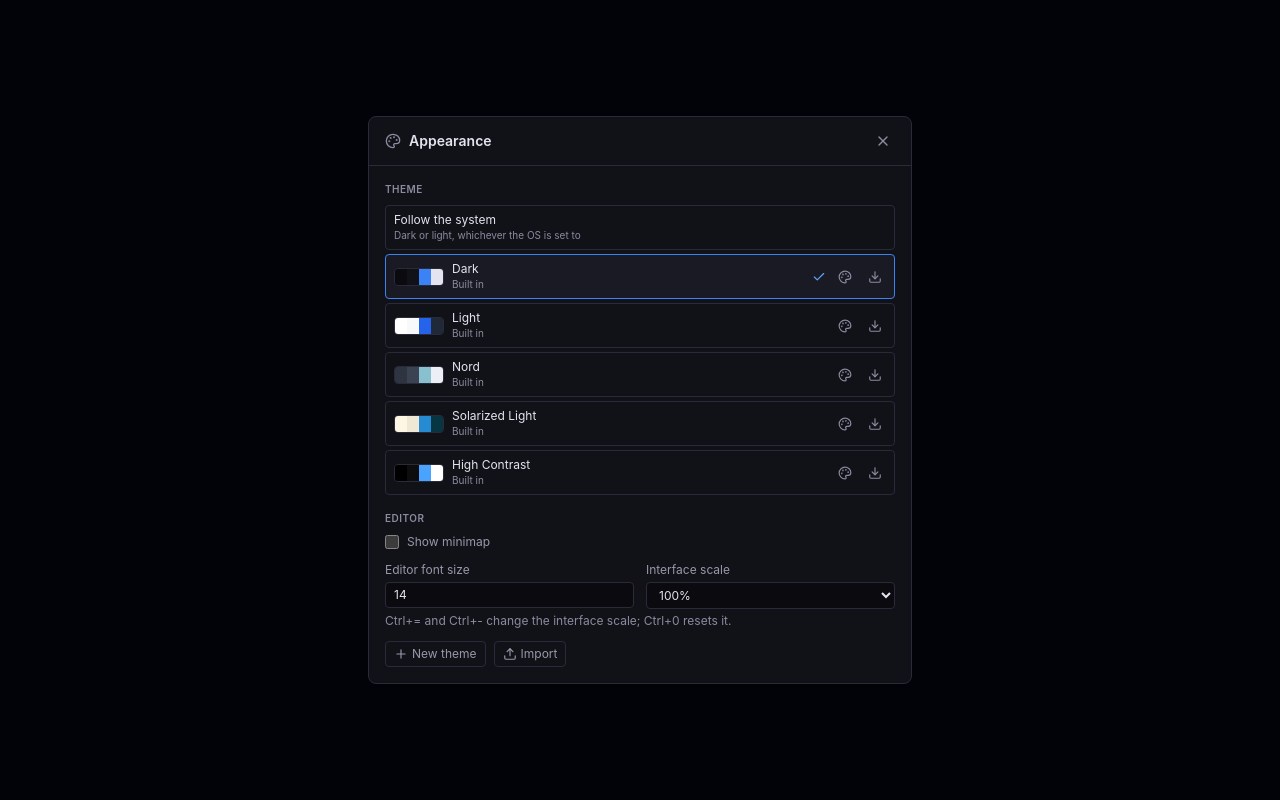
it: ThemeSettingsDialog (#350) › editing › opens a built-in as a copy, so the original survives
Click the button named "Edit Nord".
click(845, 374)  # box top-left (834, 364), bottom-right (856, 386)
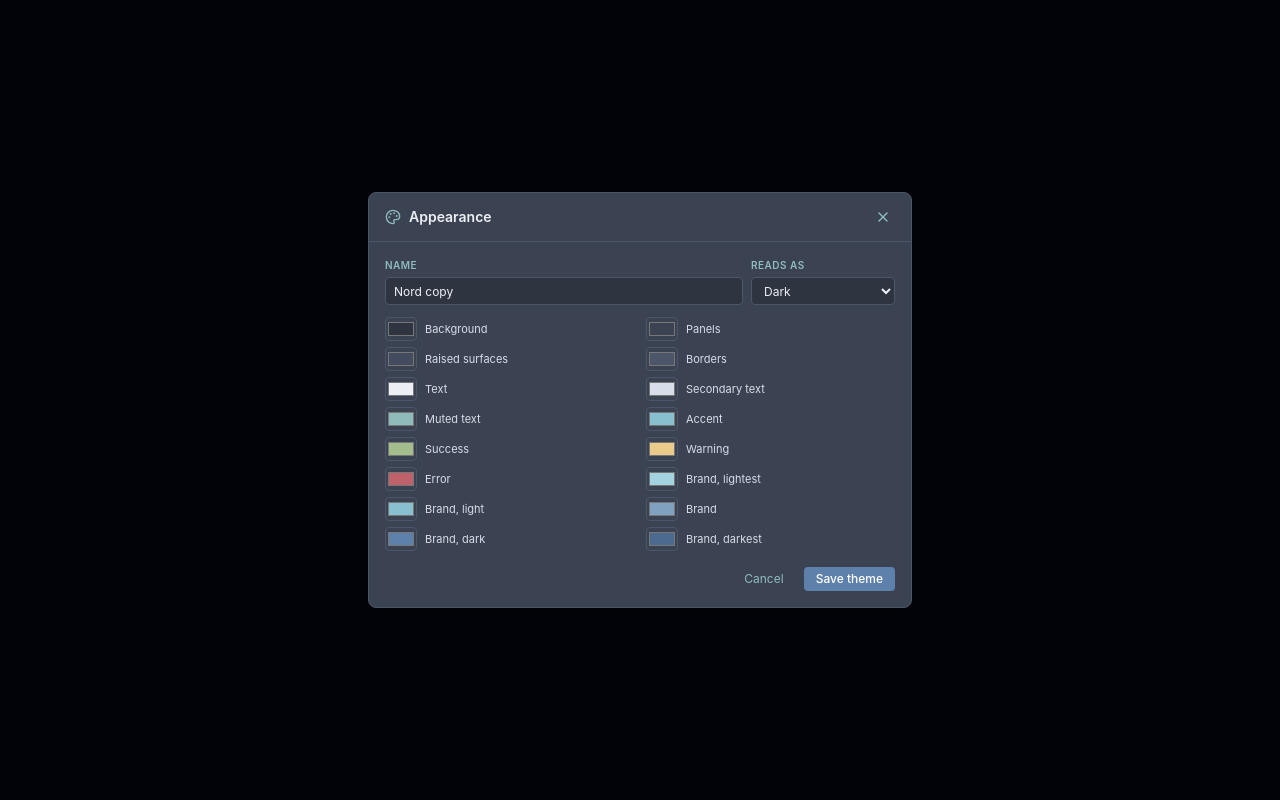
Expected: the field labelled "Name" holds "Nord copy", top-left (385, 277), bottom-right (743, 305)
